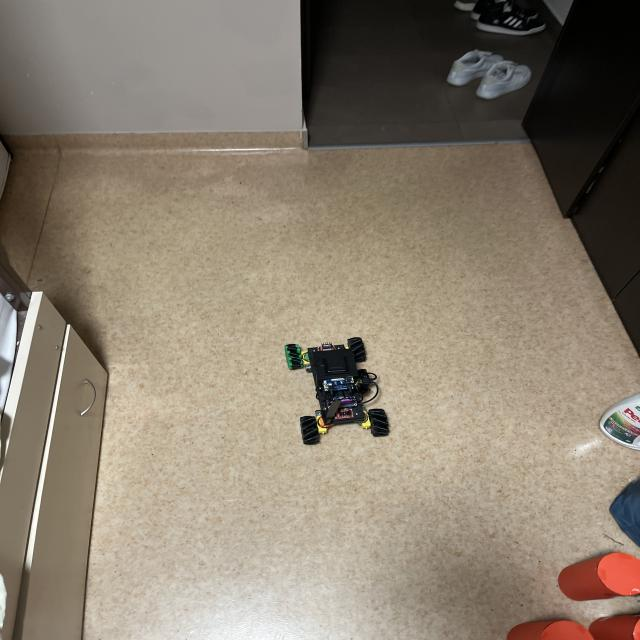robot: (285, 337, 389, 445)
